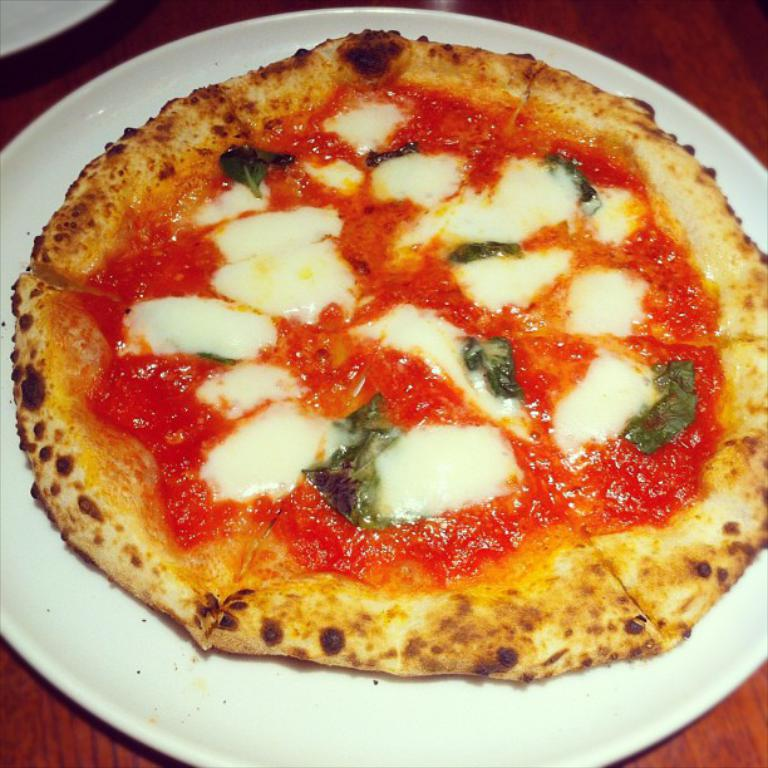Pizza: (7, 28, 766, 686)
